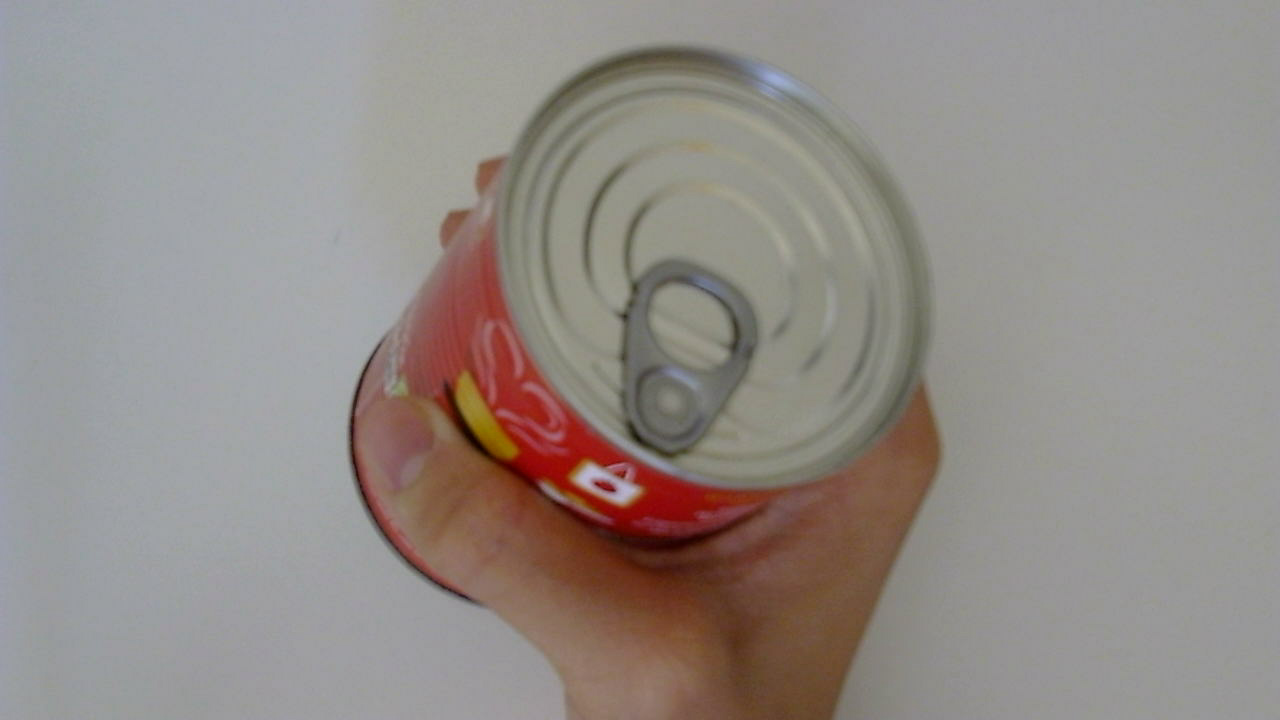Metal Tin: (349, 45, 938, 615)
